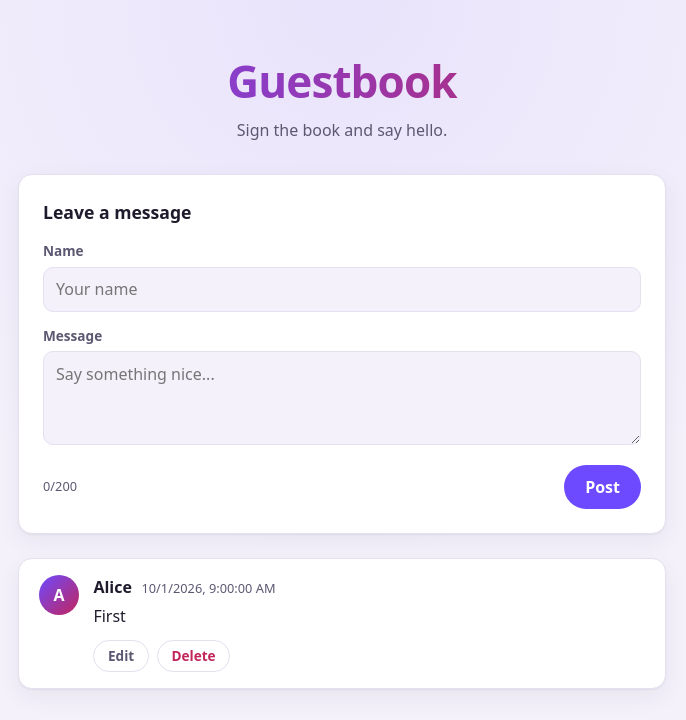
Test: App › replaces an edited message and marks it as edited
The width and height of the screenshot is (686, 720).
Check: the text "First" is shown, box [93,605,126,627]
Click the button "Edit": [121, 656] box [93,640,149,672]
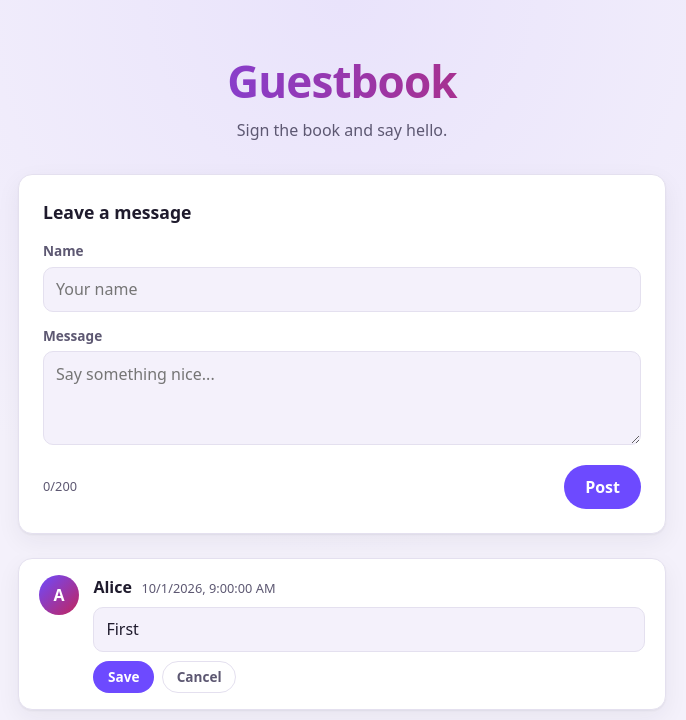
Replace the text in the field named "Edit message" with "Changed": [369, 629] box [93,606,645,652]
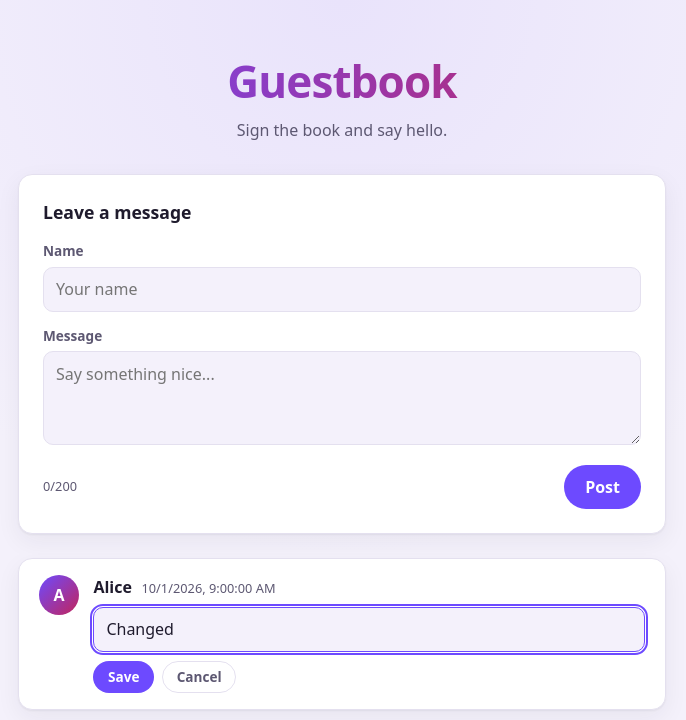
Click the button "Save": [124, 677] box [93,661,154,693]
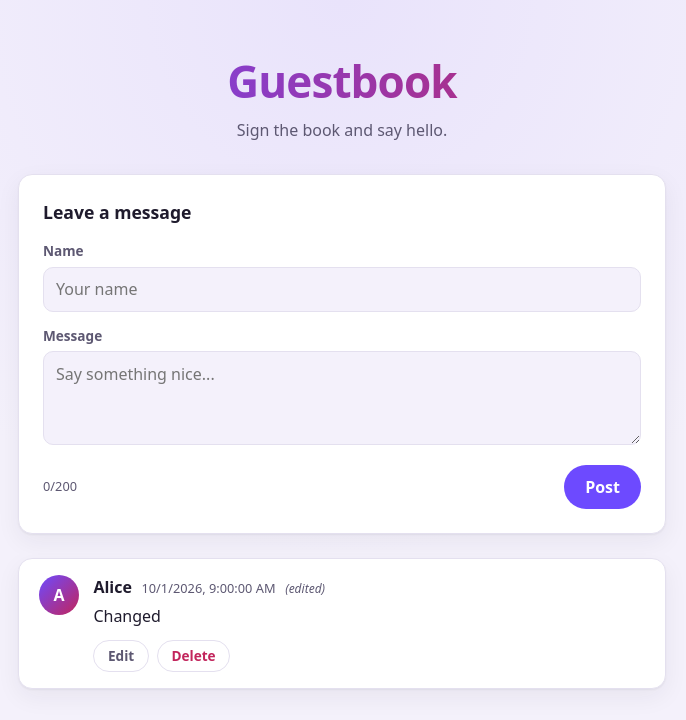
Check: the text "Changed" is shown, box [93,605,161,627]
Check: the text "(edited)" is shown, box [285,580,325,598]
